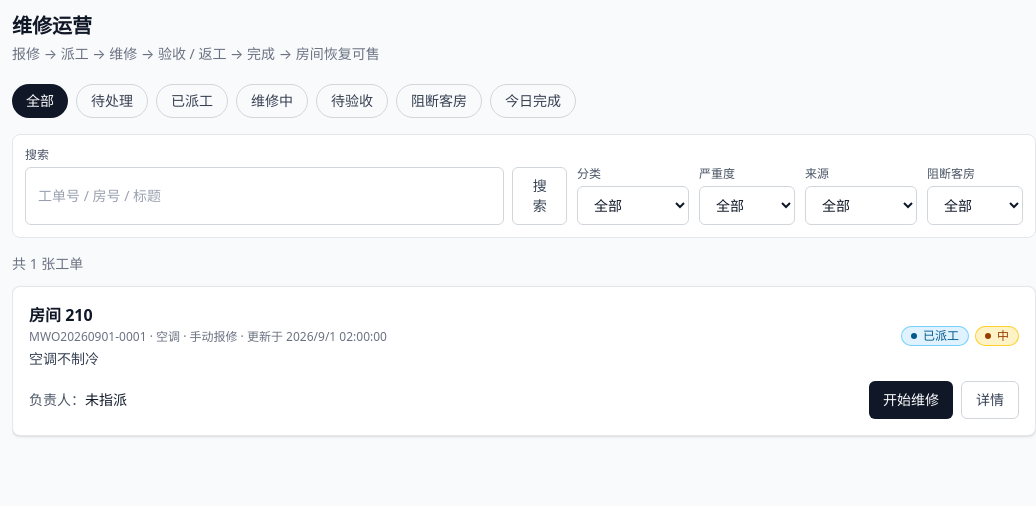
MaintenanceWorkspaceView › ASSIGNED + work → 开始维修
Expected: the link "房间 210" is shown, x1=29 y1=304 x2=93 y2=326
Click the button "开始维修" at (911, 400), box x1=869 y1=381 x2=953 y2=419
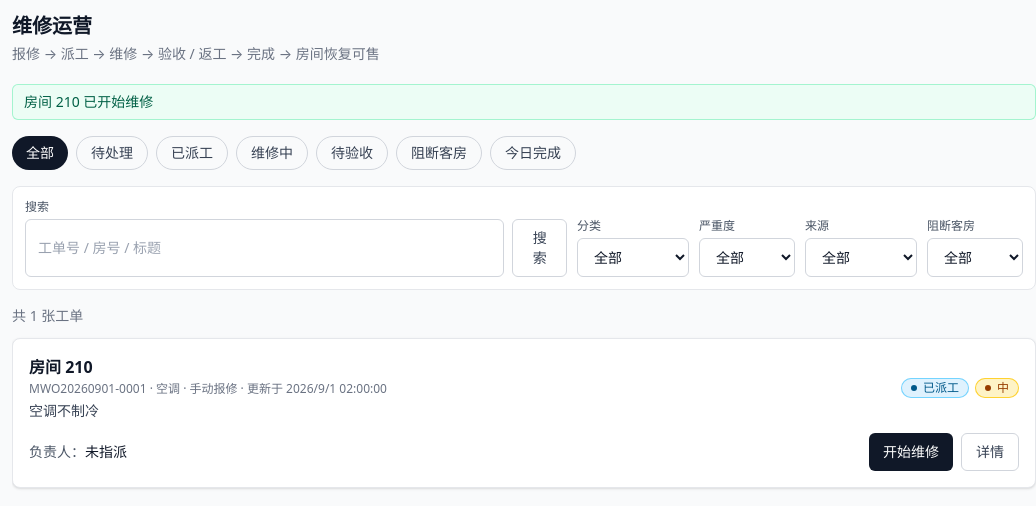
Expected: the text "房间 210 已开始维修" is shown, x1=12 y1=84 x2=1035 y2=120
